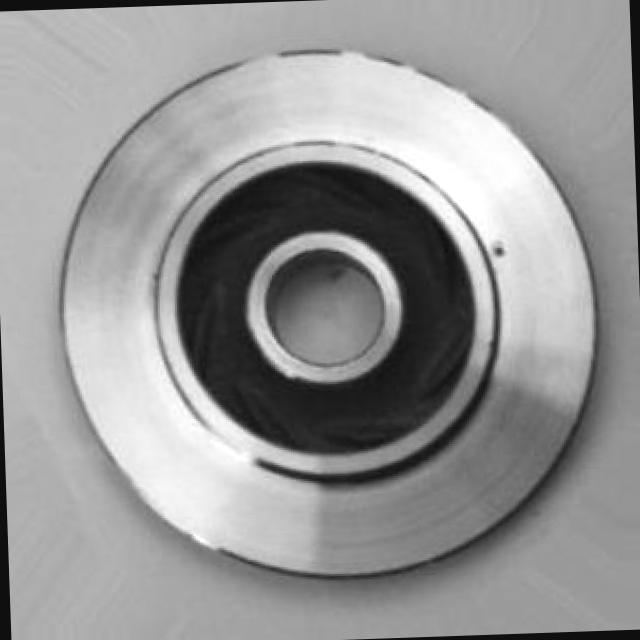Defect: (484, 234, 518, 267)
